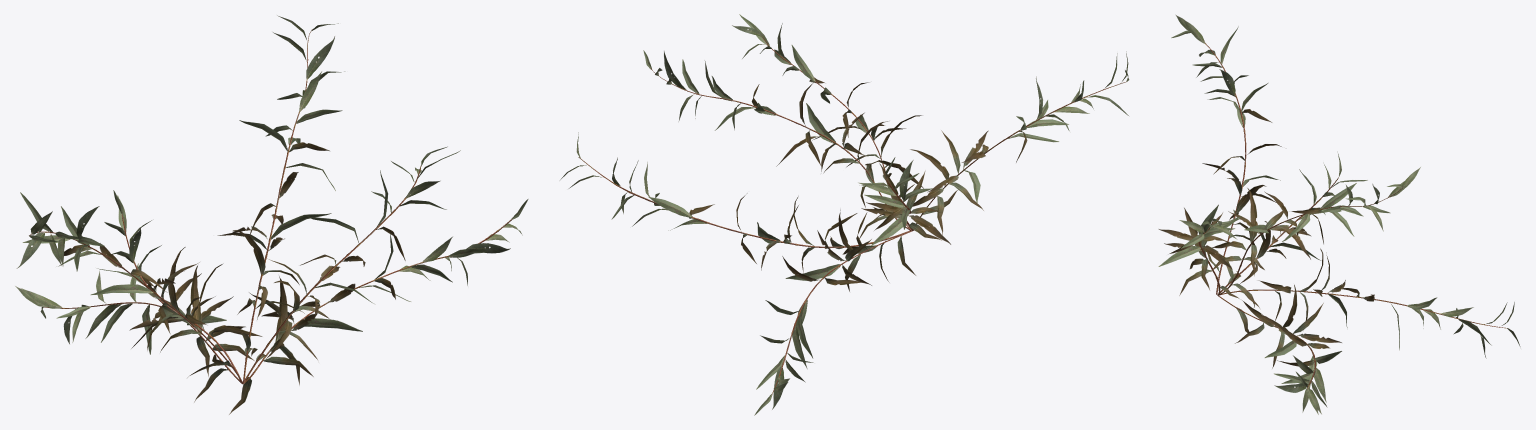
Rendered from shrub_02_c_LOD1.glb.
The picture shows the model from 3 angles, left to right: view 1: azimuth 30°, elevation 25°; view 2: azimuth 150°, elevation 25°; view 3: azimuth 270°, elevation 25°; orthographic projection. The views are drawn at different scales.
Parts seen in each view (by area): view 1: shrub_02_c_LOD1.001; view 2: shrub_02_c_LOD1.001; view 3: shrub_02_c_LOD1.001.
Boxes of the visible parts, box(x1,y1,x2,y2) form: shrub_02_c_LOD1.001: box(15, 15, 528, 414); shrub_02_c_LOD1.001: box(560, 14, 1129, 415); shrub_02_c_LOD1.001: box(1158, 15, 1520, 414).
Bounding box in the file's own units: 1.77 × 0.948 × 1.19.
1 material, 1 textured.
